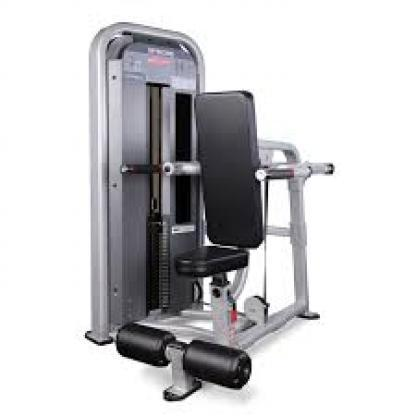seated dip machine: (72, 14, 336, 404)
